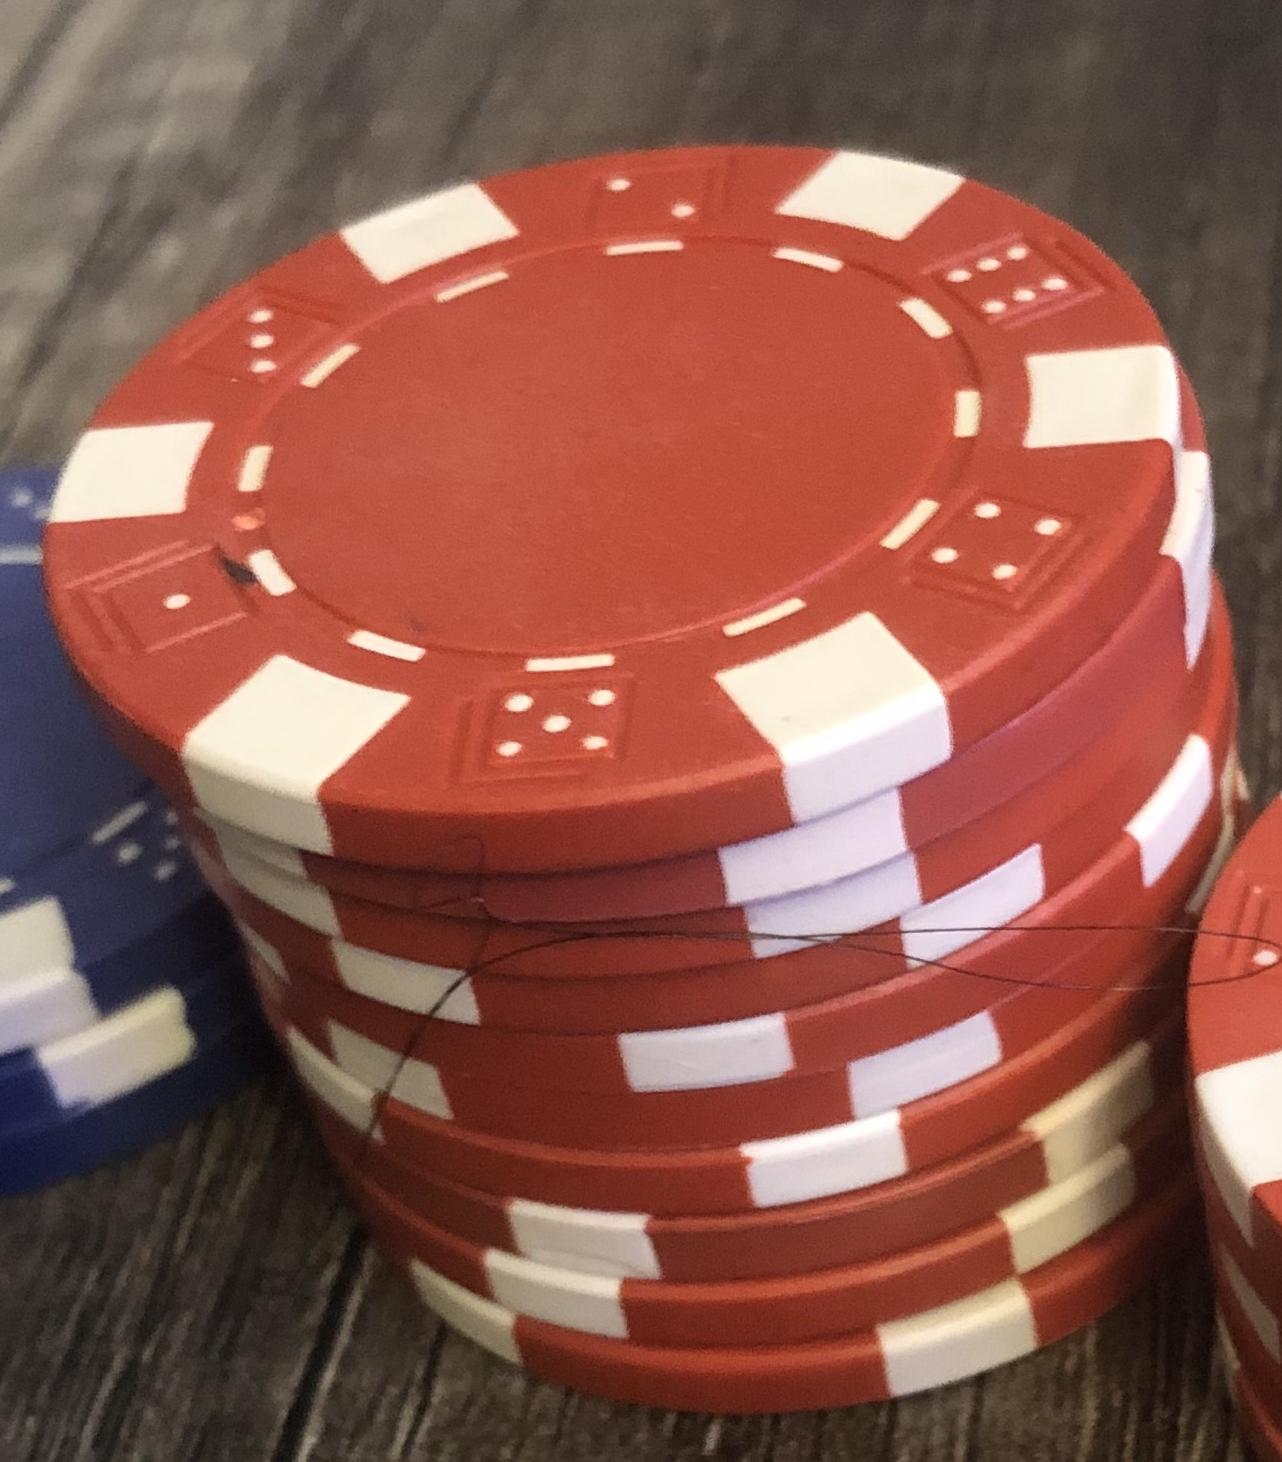Chip: (1, 1, 1282, 1462)
